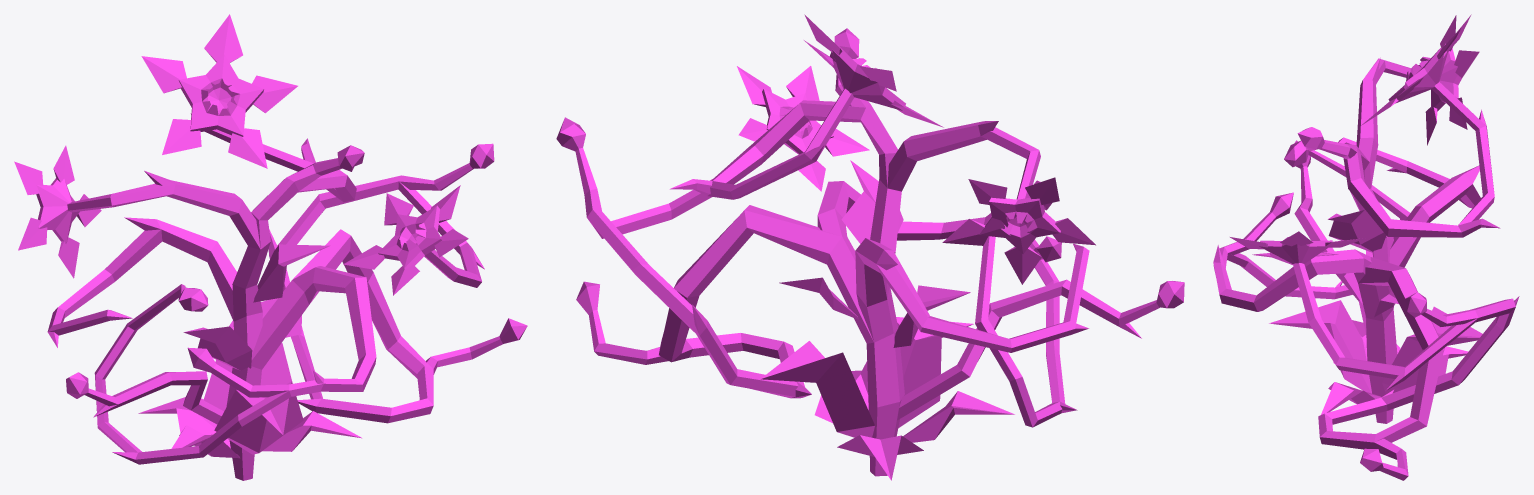
The model's file is SM_Bush_Thorns_Big_A_Fantasy.fbx.
3 views of the same model, side by side, from view 1: azimuth 30°, elevation 25°; view 2: azimuth 150°, elevation 25°; view 3: azimuth 270°, elevation 25° (orthographic). The views are drawn at different scales.
Visible parts, largest first — view 1: SM_Bush_Thorns_Big_A_Fantasy; view 2: SM_Bush_Thorns_Big_A_Fantasy; view 3: SM_Bush_Thorns_Big_A_Fantasy.
Part boxes in pixels (box(x1,y1,x2,y2)): SM_Bush_Thorns_Big_A_Fantasy: box(14, 14, 527, 480); SM_Bush_Thorns_Big_A_Fantasy: box(556, 14, 1184, 480); SM_Bush_Thorns_Big_A_Fantasy: box(1213, 14, 1519, 480).
Size of the model in its own units: 2.16 by 1.78 by 1.22.
